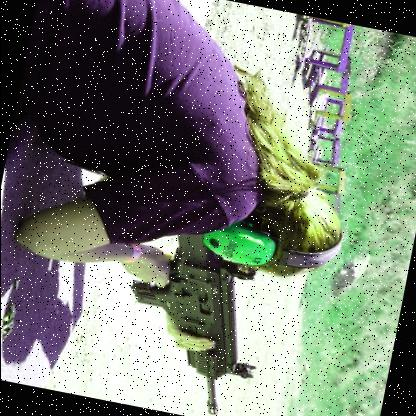rifle: (100, 190, 307, 416)
